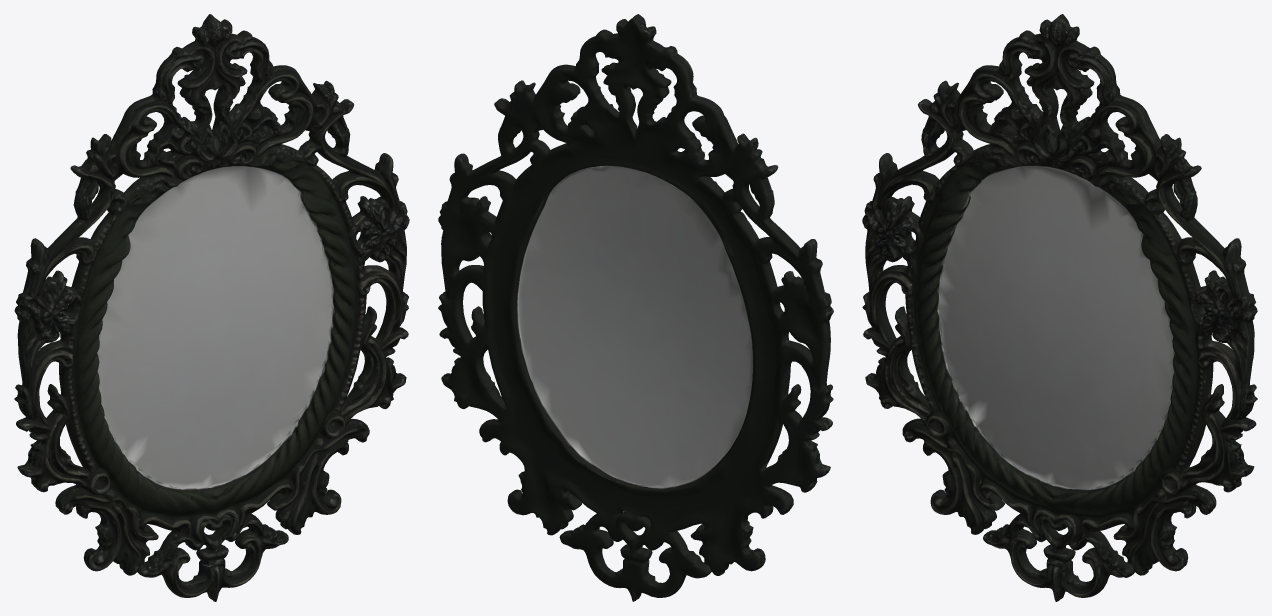
File: mirror.glb
The picture shows the model from 3 angles, left to right: view 1: azimuth 30°, elevation 25°; view 2: azimuth 150°, elevation 25°; view 3: azimuth 330°, elevation 25°; orthographic projection.
Parts seen in each view (by area): view 1: node_0; view 2: node_0; view 3: node_0.
Part boxes in pixels (x1,y1,x2,y2): node_0: (14,14,409,601); node_0: (438,14,833,601); node_0: (862,14,1257,601).
Size of the model in its own units: 0.8404 by 1.2 by 0.0439.
1 material, 1 textured.
